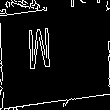M_S: (43, 28, 67, 82)
